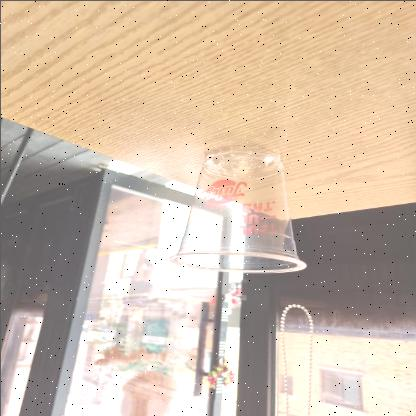Others: (160, 140, 310, 276)
